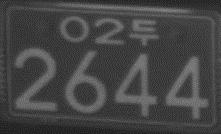0: (59, 14, 90, 43)
2: (15, 45, 58, 113), (93, 16, 125, 45)
4: (164, 54, 209, 121), (114, 52, 158, 118)
6: (64, 48, 107, 114)
두: (129, 17, 160, 47)
